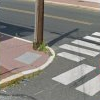crosswalk: (51, 63, 100, 96), (56, 30, 99, 62)
